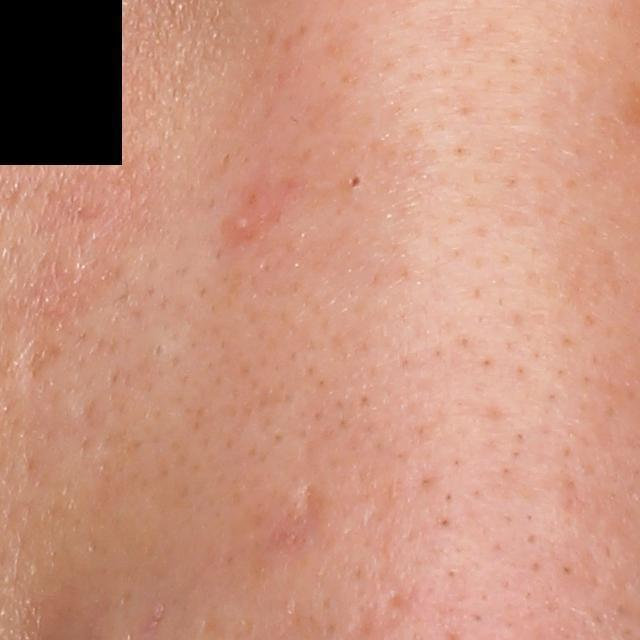atrophic_scar: (280, 483, 328, 549), (19, 335, 66, 383)
comedo: (341, 168, 367, 195)
